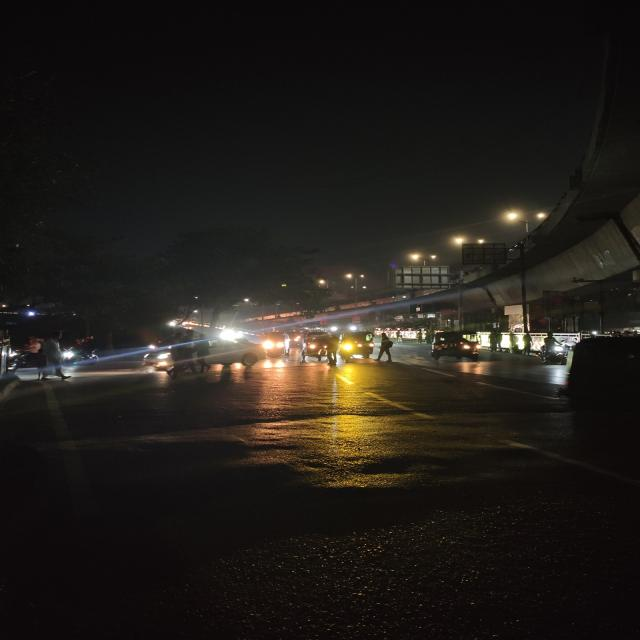car: (208, 334, 268, 370)
cng: (426, 330, 484, 364), (295, 330, 342, 364), (337, 330, 374, 362)
motorcycle: (62, 337, 105, 366)
pedestrian: (166, 329, 193, 378), (374, 332, 397, 362)
